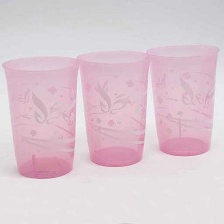glass: (62, 41, 156, 169), (0, 48, 83, 180), (146, 35, 223, 164)
